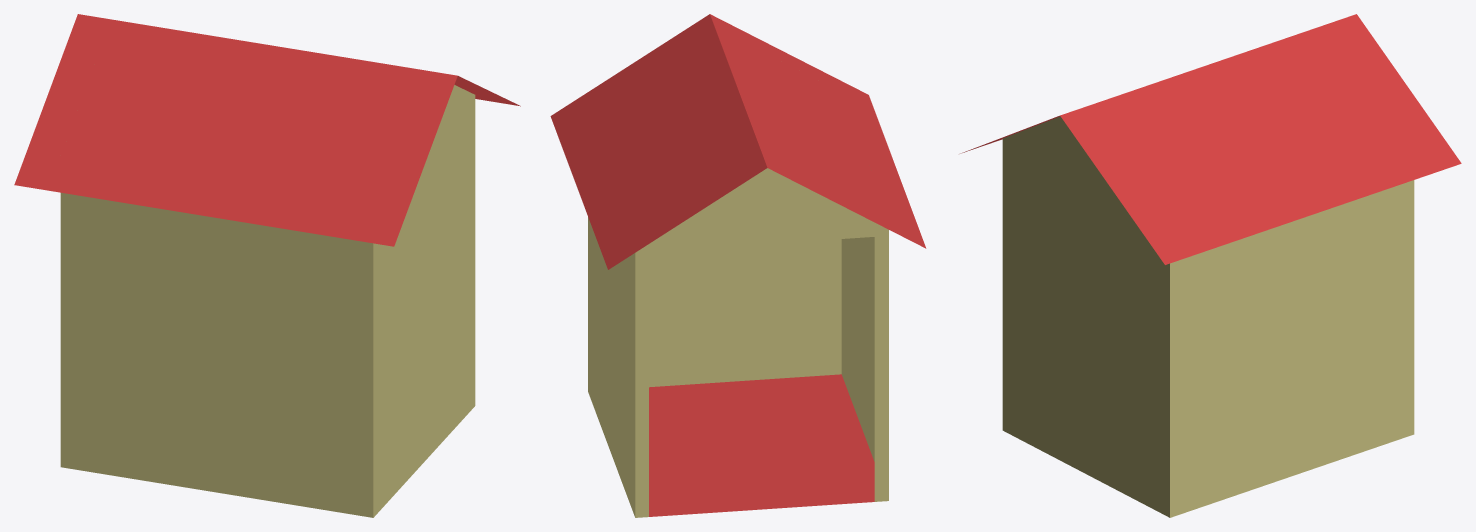
3 views of the same model, side by side, from view 1: azimuth 30°, elevation 25°; view 2: azimuth 150°, elevation 25°; view 3: azimuth 270°, elevation 25° (orthographic). The views are drawn at different scales.
Size of the model in its own units: 11.08 by 11.23 by 8.99.
